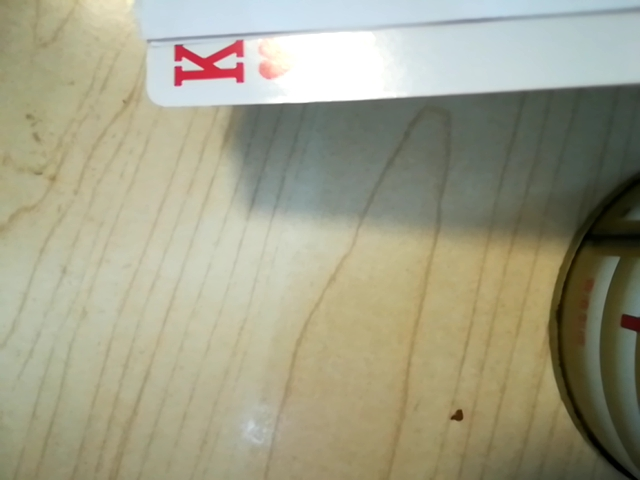hx k: (162, 30, 278, 95)
